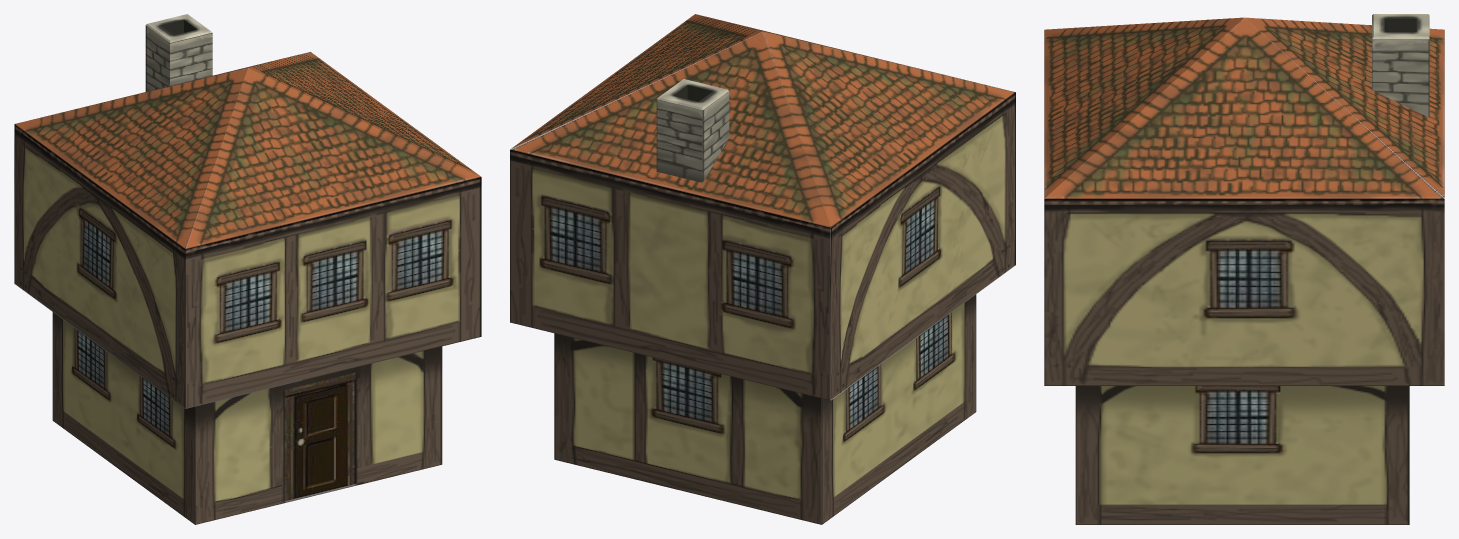
Rendered from house2.fbx.
3 renders of one model, left to right at view 1: azimuth 30°, elevation 25°; view 2: azimuth 150°, elevation 25°; view 3: azimuth 270°, elevation 25°, orthographic. The views are drawn at different scales.
Parts seen in each view (by area): view 1: polySurface14; view 2: polySurface14; view 3: polySurface14.
Part boxes in pixels (left/top/right/bottom): polySurface14: left=14, top=14, right=481, bottom=524; polySurface14: left=510, top=14, right=1015, bottom=524; polySurface14: left=1044, top=14, right=1444, bottom=524.
Bounding box in the file's own units: 9.94 × 11.99 × 9.94.
1 material, 1 textured.
